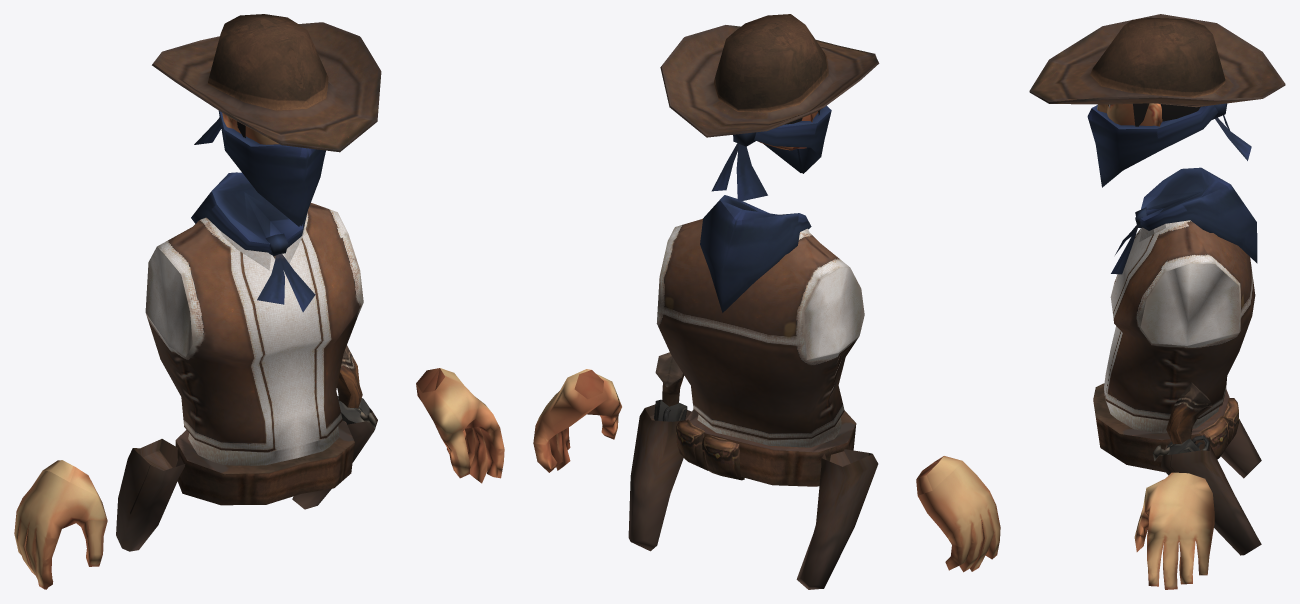
File: Cowboy 1.3.fbx
3 views of the same model, side by side, from view 1: azimuth 30°, elevation 25°; view 2: azimuth 150°, elevation 25°; view 3: azimuth 270°, elevation 25° (orthographic). The views are drawn at different scales.
Visible parts, largest first — view 1: CowBoy.001, CowBoy.002, CowBoy.003, CowBoy.004; view 2: CowBoy.001, CowBoy.002, CowBoy.003, CowBoy.004; view 3: CowBoy.001, CowBoy.002, CowBoy.004.
Boxes of the visible parts, x1,y1,x2,y2 form: CowBoy.001: (116, 172, 377, 551); CowBoy.002: (152, 14, 381, 226); CowBoy.003: (14, 460, 107, 589); CowBoy.004: (416, 368, 504, 483); CowBoy.001: (628, 195, 878, 589); CowBoy.002: (660, 14, 879, 201); CowBoy.003: (916, 456, 1000, 572); CowBoy.004: (533, 369, 621, 472); CowBoy.001: (1093, 167, 1261, 555); CowBoy.002: (1029, 14, 1285, 187); CowBoy.004: (1134, 472, 1214, 589).
Bounding box in the file's own units: 92.05 × 102 × 47.93.
